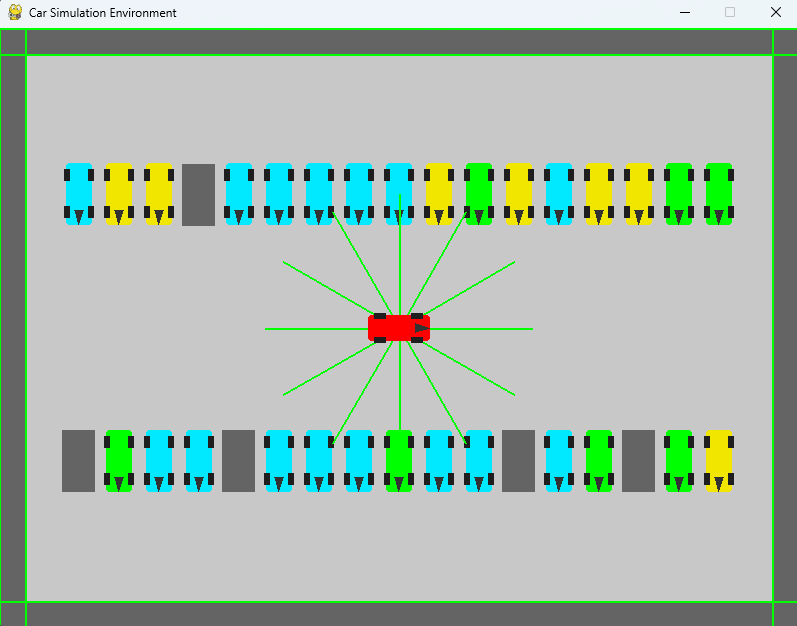ControlledCar: (365, 307, 431, 351)
ParkedCar: (54, 155, 98, 226), (222, 155, 260, 229), (420, 425, 457, 499), (262, 426, 299, 499), (581, 425, 620, 494), (419, 160, 457, 230), (341, 424, 377, 497), (541, 424, 577, 497), (703, 427, 740, 497), (662, 425, 698, 496), (264, 159, 299, 230), (581, 158, 616, 228), (181, 428, 217, 496), (304, 158, 339, 227), (140, 156, 174, 227), (344, 158, 378, 229), (502, 160, 538, 227), (302, 428, 338, 495), (382, 429, 416, 499), (464, 429, 499, 497), (462, 162, 498, 227), (702, 161, 738, 226), (140, 430, 175, 496), (101, 428, 137, 492), (661, 164, 699, 224), (100, 160, 135, 225), (621, 163, 655, 228), (544, 162, 577, 226), (382, 160, 414, 225)
ParkingSpot: (60, 424, 99, 499), (621, 424, 657, 497), (179, 162, 217, 230), (501, 427, 537, 497), (220, 426, 258, 492)
